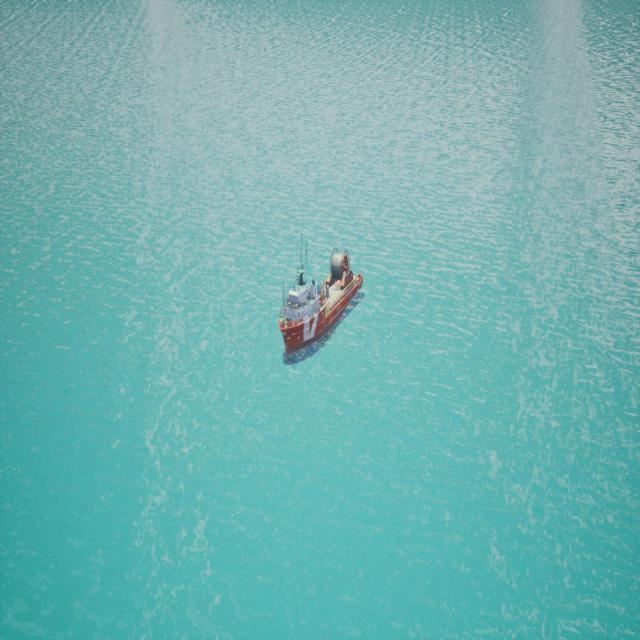tug boat: (278, 248, 364, 368)
